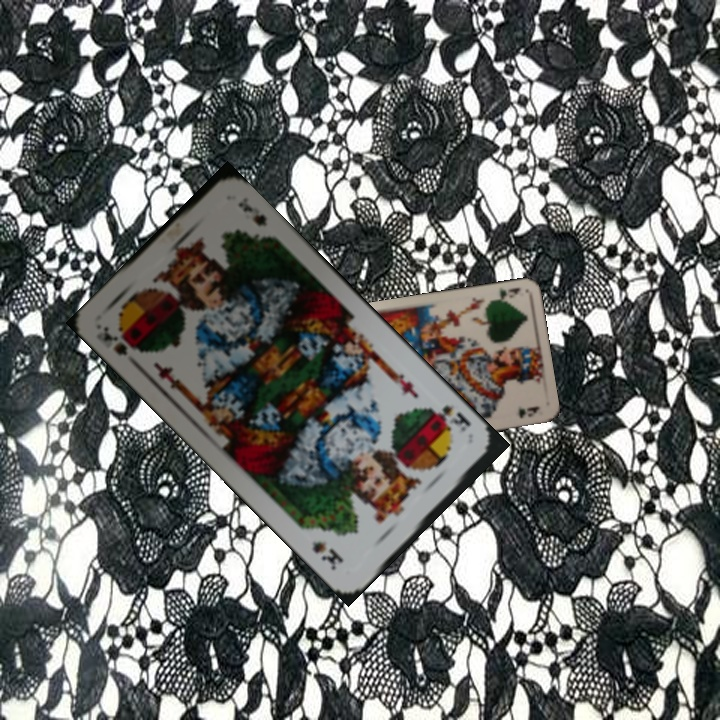GK: (485, 283, 523, 306)
SK: (99, 322, 144, 358), (427, 401, 474, 435)
